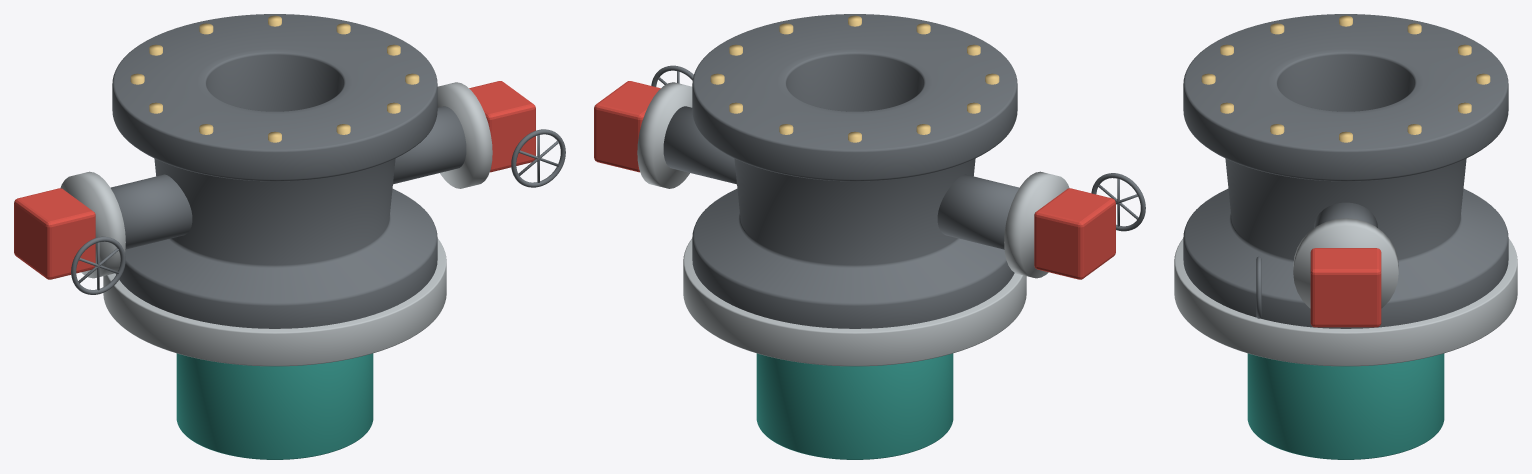
The model's file is wellhead.glb.
3 renders of one model, left to right at view 1: azimuth 30°, elevation 25°; view 2: azimuth 150°, elevation 25°; view 3: azimuth 270°, elevation 25°, orthographic.
Parts seen in each view (by area): view 1: A-section casing head, Surface casing stub, Landing base flange, Casing head valve -1, Casing head outlet -1, Casing head valve 1, Casing head flange 1, Casing head outlet 1, Casing head flange -1, Casing head valve 1 wheel, Casing head valve -1 wheel; view 2: A-section casing head, Surface casing stub, Landing base flange, Casing head valve -1, Casing head outlet -1, Casing head valve 1, Casing head flange -1, Casing head flange 1, Casing head outlet 1, Casing head valve -1 wheel; view 3: A-section casing head, Surface casing stub, Landing base flange, Casing head valve 1, Casing head flange 1, Casing head outlet 1, Casing head valve 1 wheel.
Part boxes in pixels (<box>): A-section casing head: <box>112,14,437,328</box>; Surface casing stub: <box>176,353,373,459</box>; Landing base flange: <box>103,238,446,366</box>; Casing head valve -1: <box>14,188,95,279</box>; Casing head outlet -1: <box>110,174,192,249</box>; Casing head valve 1: <box>469,81,535,172</box>; Casing head flange 1: <box>437,82,492,188</box>; Casing head outlet 1: <box>393,106,466,184</box>; Casing head flange -1: <box>60,171,125,278</box>; Casing head valve 1 wheel: <box>511,129,565,187</box>; Casing head valve -1 wheel: <box>71,236,125,294</box>; A-section casing head: <box>692,14,1017,328</box>; Surface casing stub: <box>756,353,953,459</box>; Landing base flange: <box>683,238,1026,366</box>; Casing head valve -1: <box>1034,188,1115,279</box>; Casing head outlet -1: <box>937,174,1019,249</box>; Casing head valve 1: <box>594,81,660,172</box>; Casing head flange -1: <box>1004,171,1069,278</box>; Casing head flange 1: <box>637,82,692,188</box>; Casing head outlet 1: <box>663,106,736,184</box>; Casing head valve -1 wheel: <box>1091,173,1145,231</box>; A-section casing head: <box>1183,14,1508,328</box>; Surface casing stub: <box>1247,353,1444,459</box>; Landing base flange: <box>1174,238,1517,366</box>; Casing head valve 1: <box>1310,248,1381,327</box>; Casing head flange 1: <box>1293,218,1398,308</box>; Casing head outlet 1: <box>1314,202,1377,227</box>; Casing head valve 1 wheel: <box>1256,256,1261,318</box>.
Size of the model in its own units: 4.99 by 3.3 by 3.
